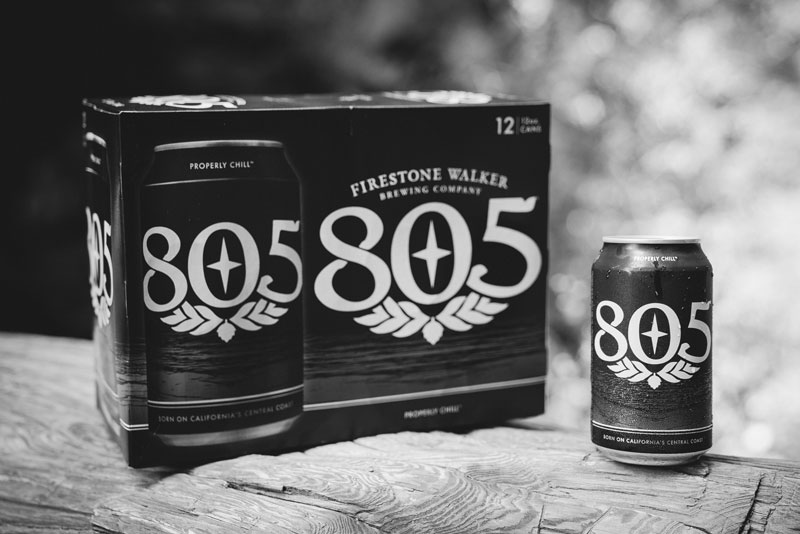beer can: (589, 234, 715, 470)
